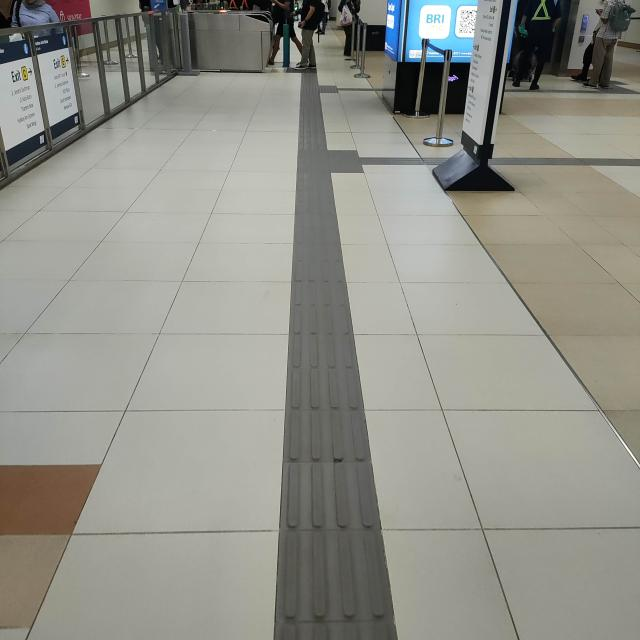lurus: (275, 140, 369, 640)
